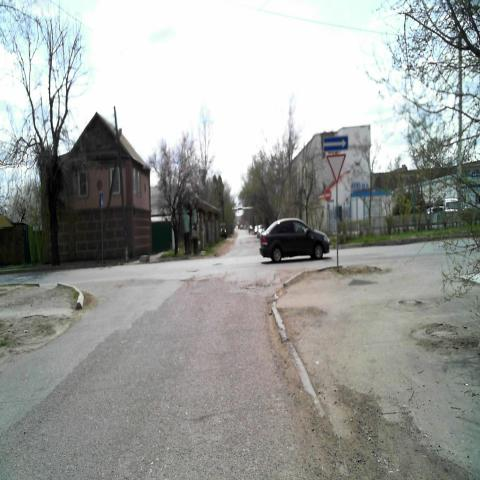5_7_1: (322, 136, 348, 151)
